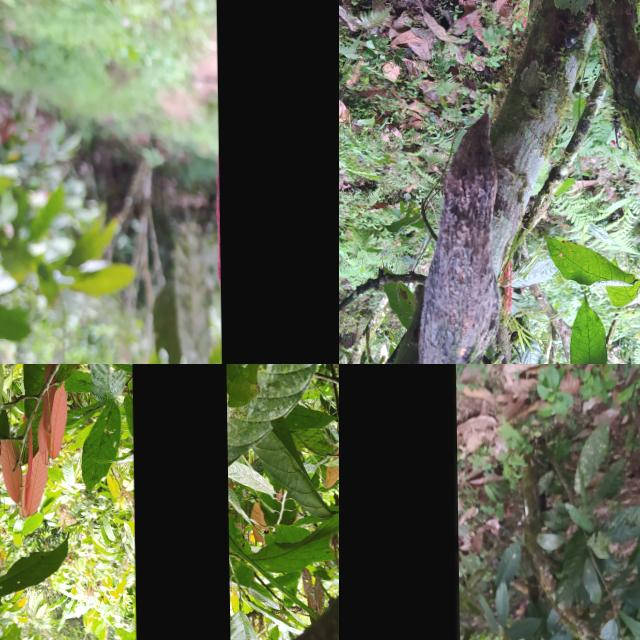Fitoftora: (215, 0, 339, 364), (130, 364, 229, 640), (410, 99, 498, 364)
Monilia: (339, 364, 461, 640)
